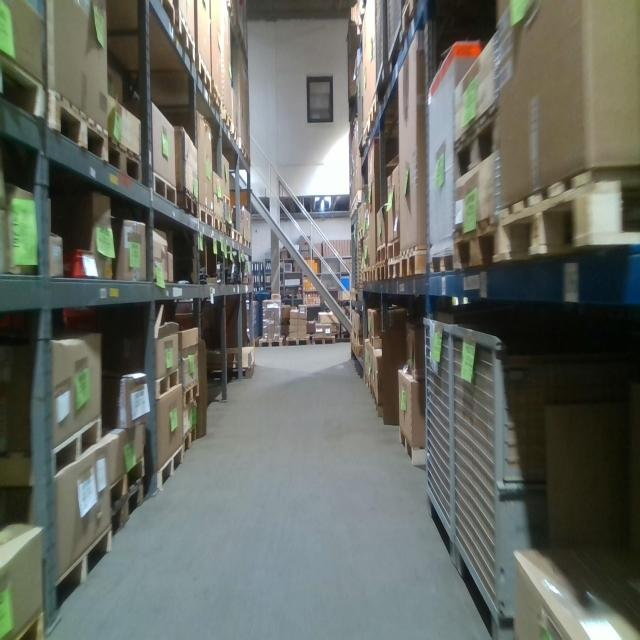pallet: (490, 175, 620, 266), (42, 78, 107, 166), (53, 523, 112, 616), (454, 97, 503, 184), (54, 418, 101, 487), (453, 213, 506, 271), (2, 57, 43, 125), (106, 481, 145, 539), (106, 454, 144, 509), (108, 140, 148, 191), (151, 438, 184, 494), (398, 426, 428, 466), (401, 242, 430, 279), (173, 11, 194, 62), (208, 362, 256, 382), (152, 171, 177, 208), (426, 246, 459, 273), (154, 365, 180, 398), (196, 49, 212, 100), (15, 606, 39, 638), (177, 188, 198, 220), (211, 71, 224, 120), (181, 380, 200, 408), (368, 95, 380, 136), (182, 426, 199, 454), (388, 253, 404, 281), (198, 204, 214, 232), (387, 234, 403, 260), (285, 334, 312, 349), (258, 335, 284, 350), (312, 333, 335, 349), (223, 106, 234, 136), (376, 244, 388, 265), (377, 262, 388, 284), (368, 333, 382, 349), (352, 343, 366, 358), (352, 327, 365, 343), (215, 213, 223, 237), (221, 191, 231, 208), (363, 118, 368, 151), (232, 227, 240, 244), (370, 265, 377, 284), (362, 267, 370, 283), (225, 222, 232, 240), (245, 236, 252, 252), (239, 232, 244, 248)
small_load_carrier: (61, 246, 97, 279)
stillage: (449, 319, 563, 640), (418, 314, 456, 569), (351, 231, 358, 294), (353, 223, 359, 292)
